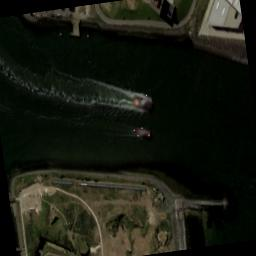boat: (130, 92, 152, 112), (134, 126, 150, 139)
